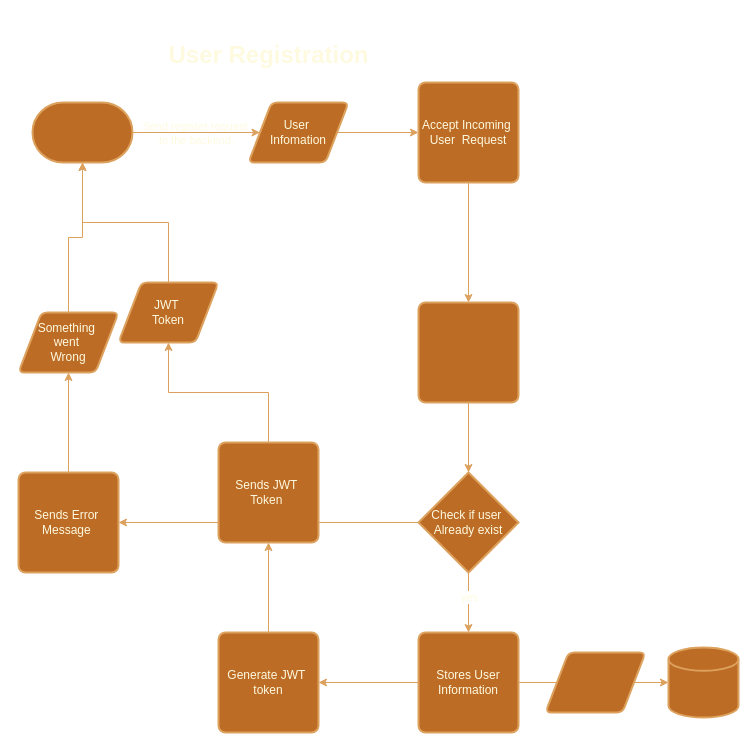
Some shapes in this 756 by 750 pixel diagram are drawn without their labels. Here are the shapes that lost their labels. From the top down, the box of each, then its label:
(31, 101, 133, 163): User Click on Register
(417, 301, 519, 403): Validate the user request based on a schema
(544, 651, 646, 713): User Information
(667, 646, 739, 718): User Database
